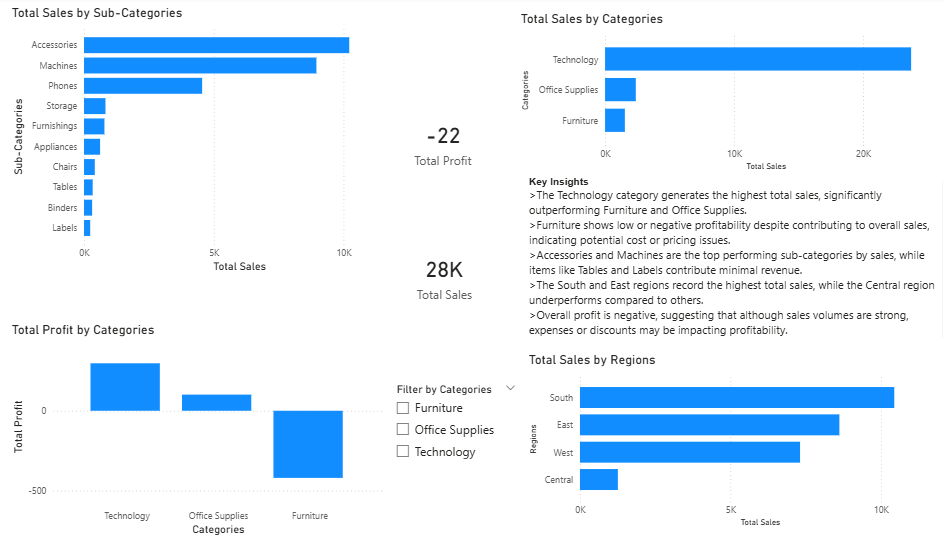

The dashboard page shown, as its layout file describes it:
{"tool":"powerbi","page":{"name":"Page 1","canvas":[1280,720],"ordinal":0},"visuals":[{"type":"card","fields":{"Values":["SampleSuperstore.Total Sales"]},"box":[528.3,324.9,128.8,89.3],"z":0},{"type":"card","fields":{"Values":["SampleSuperstore.Total Profit"]},"box":[528.3,150.7,124.4,84.9],"z":1000},{"type":"clusteredBarChart","fields":{"Y":["SampleSuperstore.Total Sales"],"Category":["SampleSuperstore.Categories"]},"box":[689.3,19,560.5,216.6],"z":2000},{"type":"clusteredBarChart","fields":{"Category":["SampleSuperstore.Sub-Categories"],"Y":["SampleSuperstore.Total Sales"]},"box":[13.2,10.2,529.8,360],"z":4000},{"type":"clusteredColumnChart","fields":{"Y":["SampleSuperstore.Total Profit"],"Category":["SampleSuperstore.Categories"]},"box":[13.2,431.7,503.4,288.3],"z":5000},{"type":"clusteredBarChart","fields":{"Y":["SampleSuperstore.Total Sales"],"Category":["SampleSuperstore.Regions"]},"box":[699.5,471.2,567.8,237.1],"z":6000},{"type":"slicer","fields":{"Values":["SampleSuperstore.Categories"]},"box":[516.6,507.8,182.9,156.6],"z":7000},{"type":"textbox","box":[699.5,235.6,567.8,222.4],"z":8000}]}

Visuals, with their boxes in screenshot pixels (x1, y1, x2, y2), scaled from the page's 1280x720 canvas onto the 943x536 screenshot:
card - SampleSuperstore.Total Sales: box=[389, 242, 484, 308]
card - SampleSuperstore.Total Profit: box=[389, 112, 481, 175]
clusteredBarChart - SampleSuperstore.Total Sales x SampleSuperstore.Categories: box=[508, 14, 921, 175]
clusteredBarChart - SampleSuperstore.Sub-Categories x SampleSuperstore.Total Sales: box=[10, 8, 400, 276]
clusteredColumnChart - SampleSuperstore.Total Profit x SampleSuperstore.Categories: box=[10, 321, 381, 535]
clusteredBarChart - SampleSuperstore.Total Sales x SampleSuperstore.Regions: box=[515, 351, 934, 527]
slicer - SampleSuperstore.Categories: box=[381, 378, 515, 495]
textbox: box=[515, 175, 934, 341]
